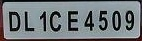character: (49, 10, 61, 32), (66, 9, 78, 31), (23, 10, 34, 32), (8, 11, 20, 31), (83, 10, 94, 31), (124, 9, 134, 31), (98, 9, 108, 30), (111, 10, 121, 31), (38, 10, 47, 32)
